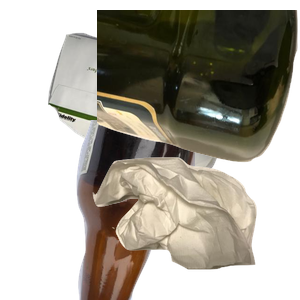glass: (60, 120, 300, 300)
paper: (45, 30, 281, 195)
plastic: (97, 10, 300, 165)
trash: (90, 155, 300, 300)
